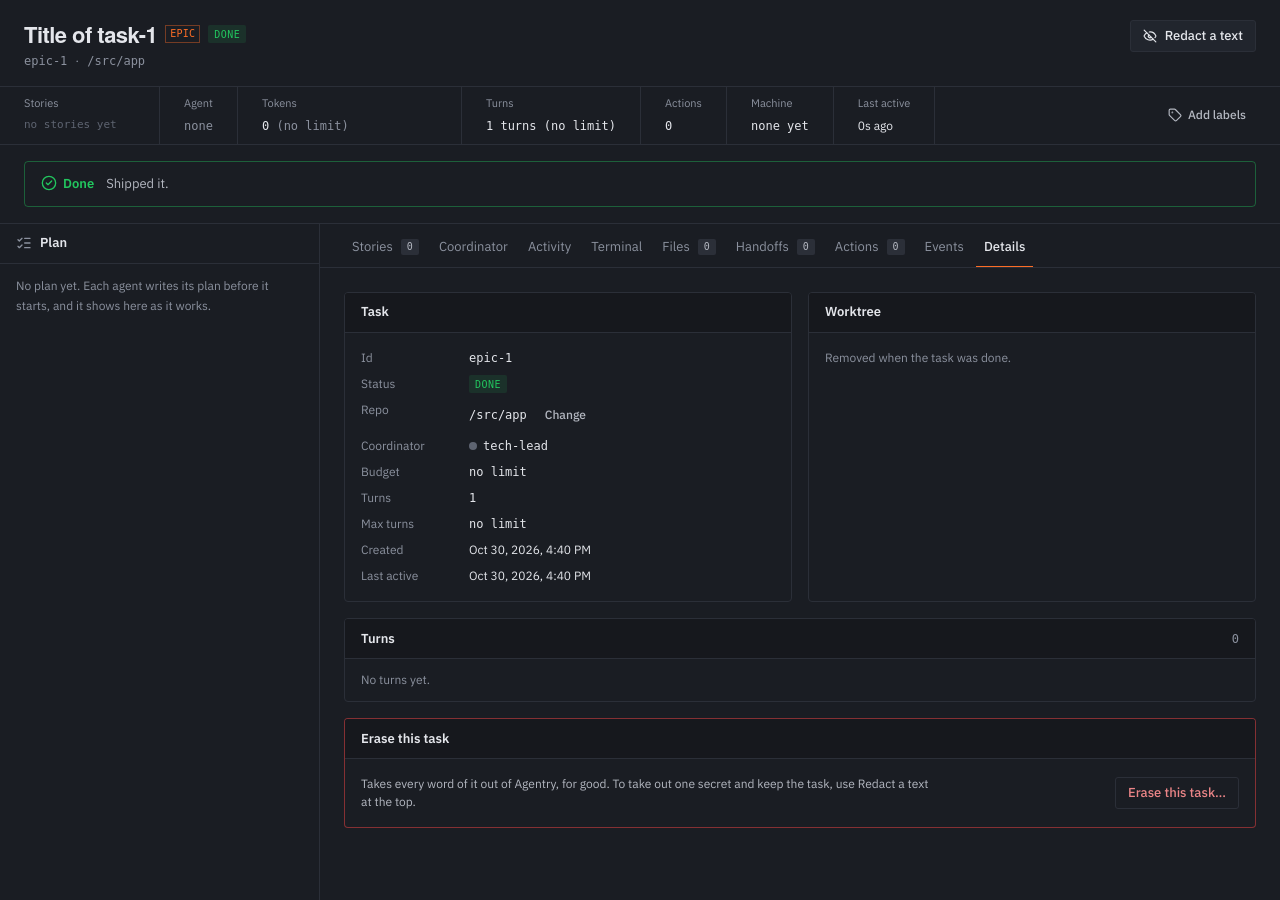
Test case: TaskPage's ids › shows an epic as epic-N, in the header and its details
Click the button "Erase this task…".
click(1177, 793)  # box [1115,777,1239,809]
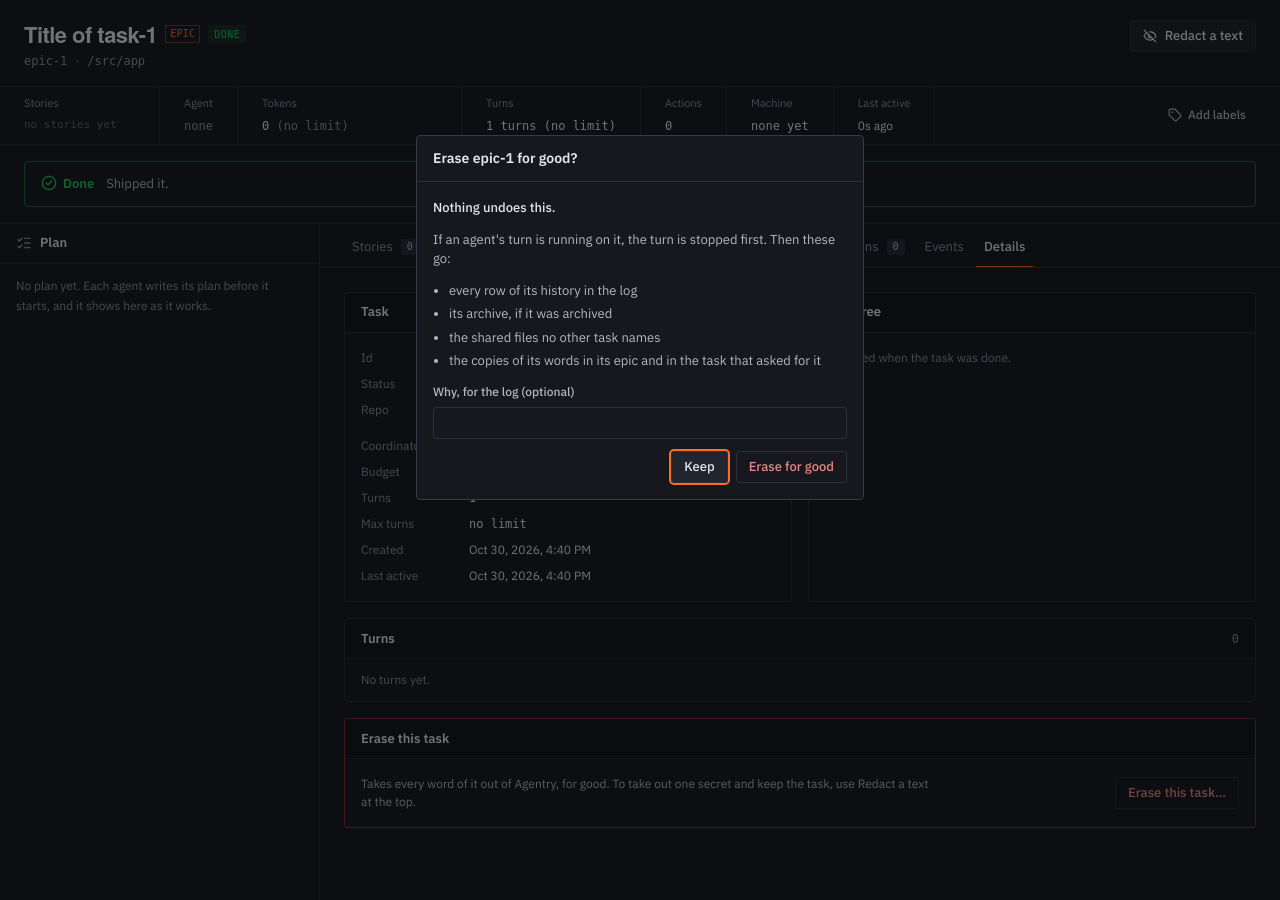
Check: the dialog "Erase epic-1 for good?" is shown, box [416,135,864,500]
